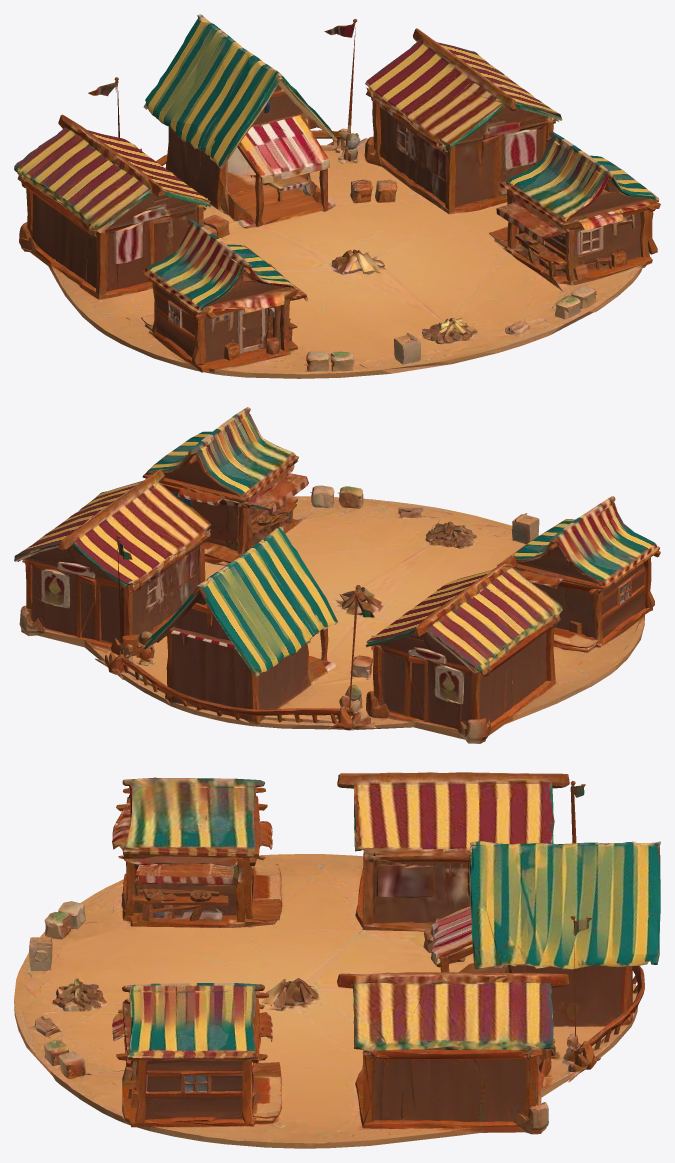
The model's file is ilha-palanque.glb.
3 renders of one model, top to bottom at view 1: azimuth 30°, elevation 25°; view 2: azimuth 150°, elevation 25°; view 3: azimuth 270°, elevation 25°, orthographic. The views are drawn at different scales.
Bounding box in the file's own units: 1.9 × 0.4987 × 1.8.
Materials: 1 (1 with a texture image).
